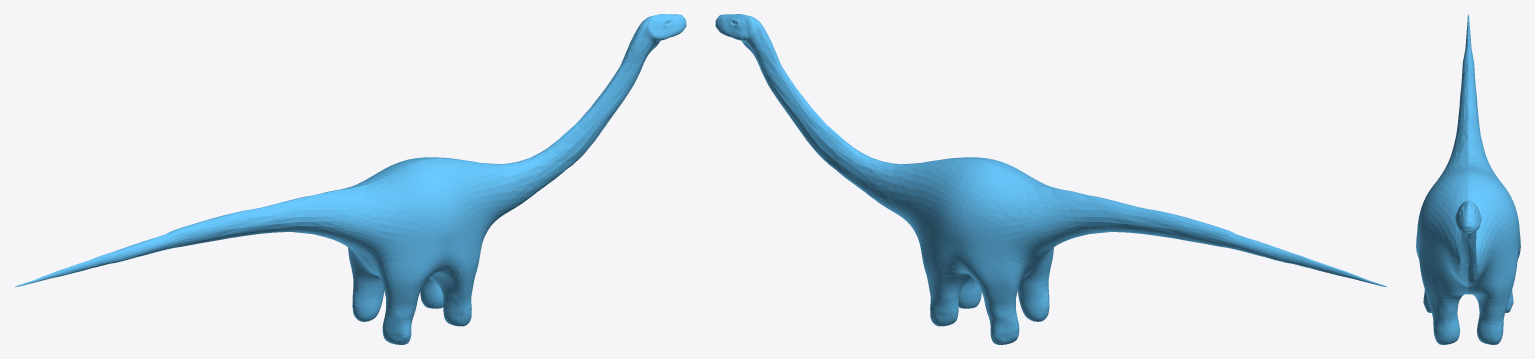
Rendered from mokele.gltf.
3 views of the same model, side by side, from view 1: azimuth 30°, elevation 25°; view 2: azimuth 150°, elevation 25°; view 3: azimuth 270°, elevation 25° (orthographic). The views are drawn at different scales.
Parts seen in each view (by area): view 1: node-0; view 2: node-0; view 3: node-0.
Part boxes in pixels (x1,y1,x2,y2): node-0: [15, 14, 686, 344]; node-0: [715, 14, 1386, 344]; node-0: [1416, 14, 1520, 344].
Size of the model in its own units: 141 by 49.87 by 19.96.
